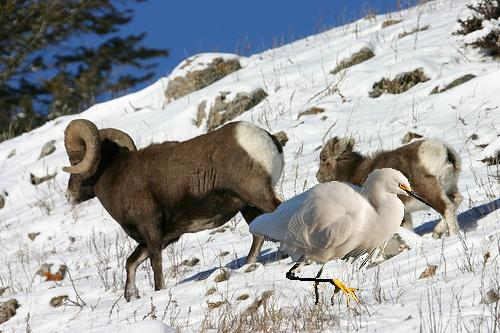tampered: (249, 169, 439, 307)
